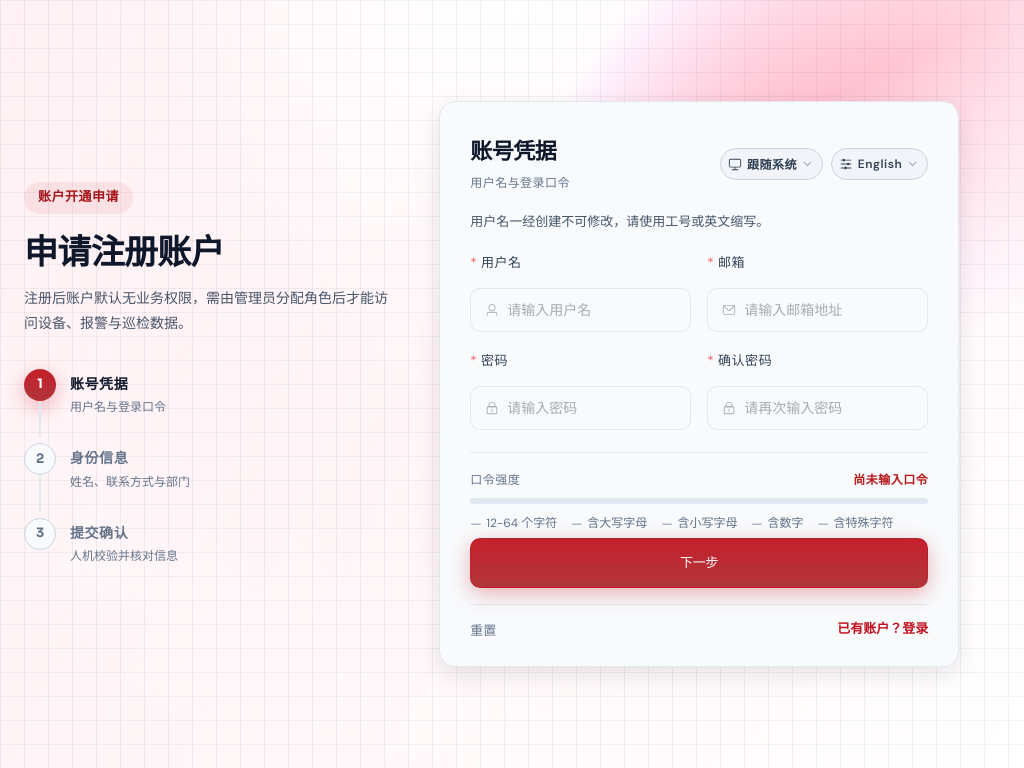
it: RegisterView 分步向导 › 末步信息核对展示第 1/2 步的填写值（未填项显示占位）
The image size is (1024, 768).
Type "zhangsan" into the field with id "username" at {"x": 592, "y": 310}, box top-left (507, 291), bottom-right (676, 329)
Type "z@example.com" into the field labelled "邮箱" at {"x": 829, "y": 310}, box top-left (744, 291), bottom-right (913, 329)
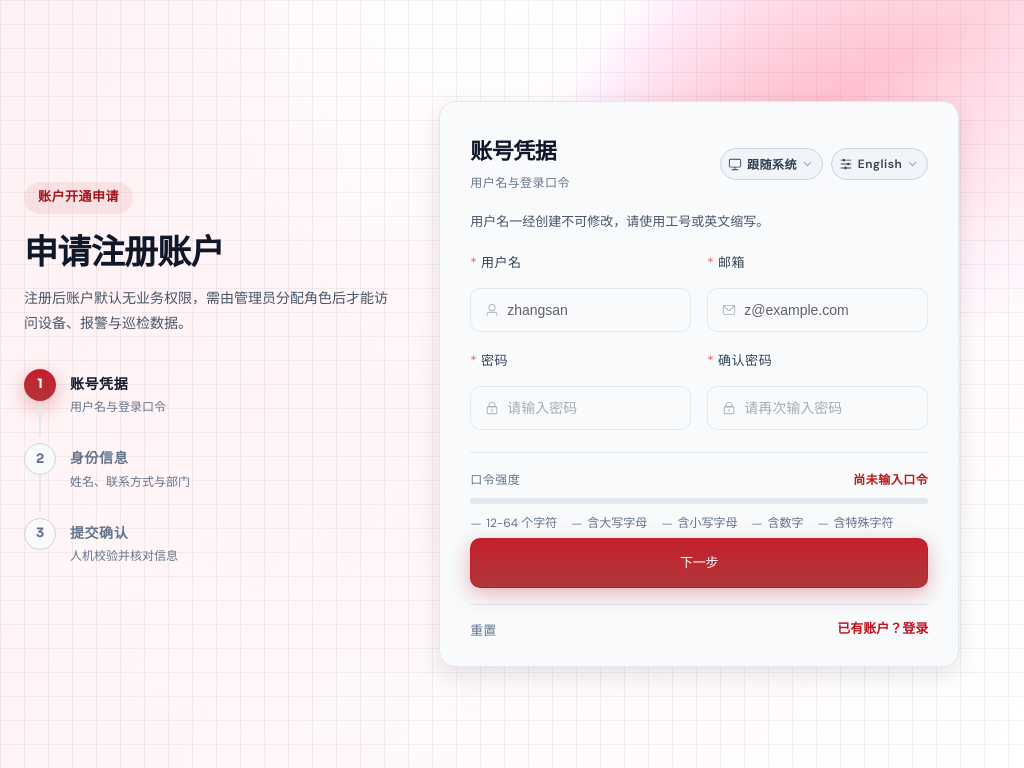
Type "Str0ng-Pass_2026" into the password field labelled "密码" at {"x": 592, "y": 408}, box top-left (507, 389), bottom-right (676, 427)
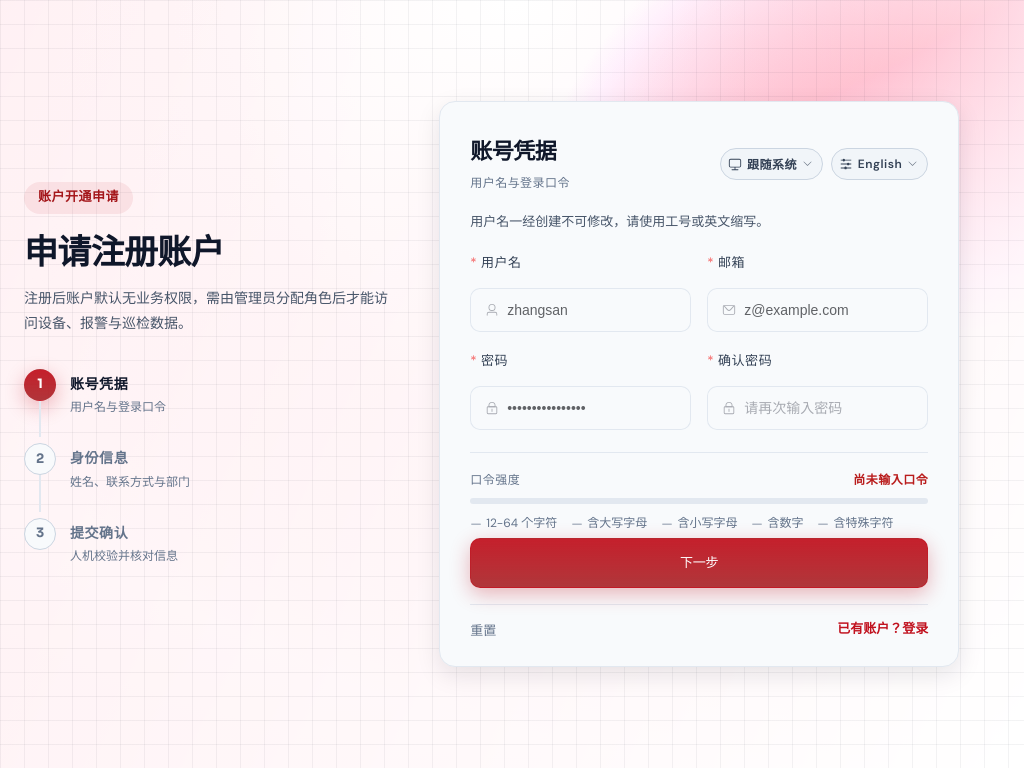
Type "Str0ng-Pass_2026" into the password field labelled "确认密码" at {"x": 829, "y": 408}, box top-left (744, 389), bottom-right (913, 427)
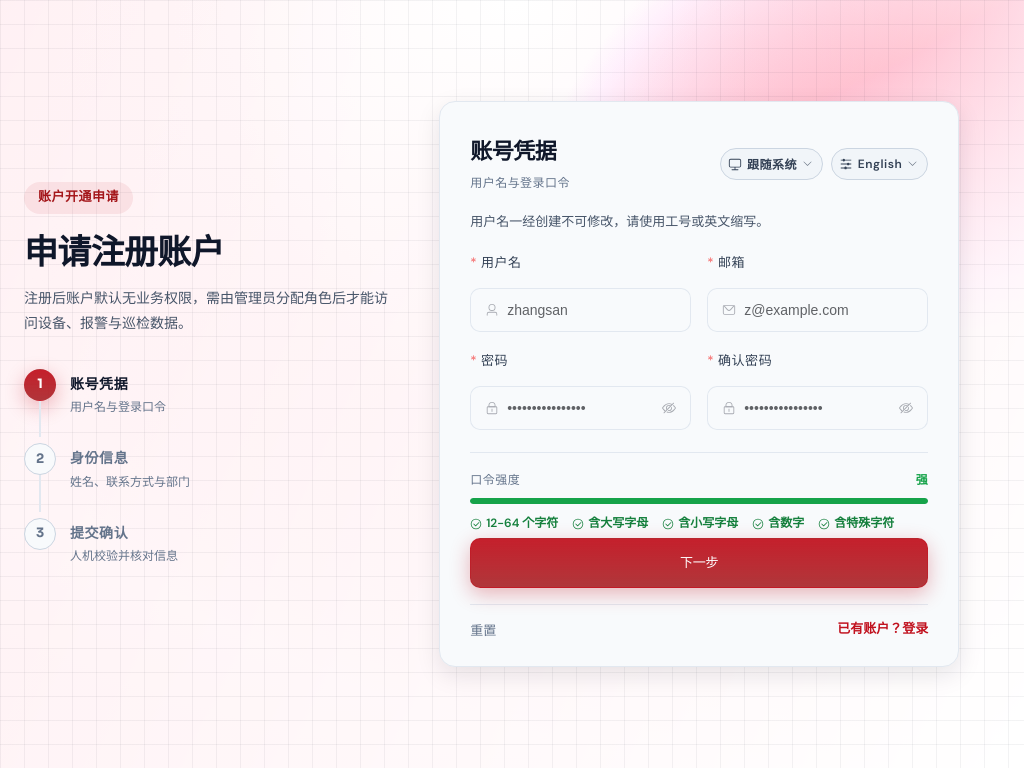
Click the button "下一步" at {"x": 699, "y": 563}, box top-left (470, 538), bottom-right (928, 588)
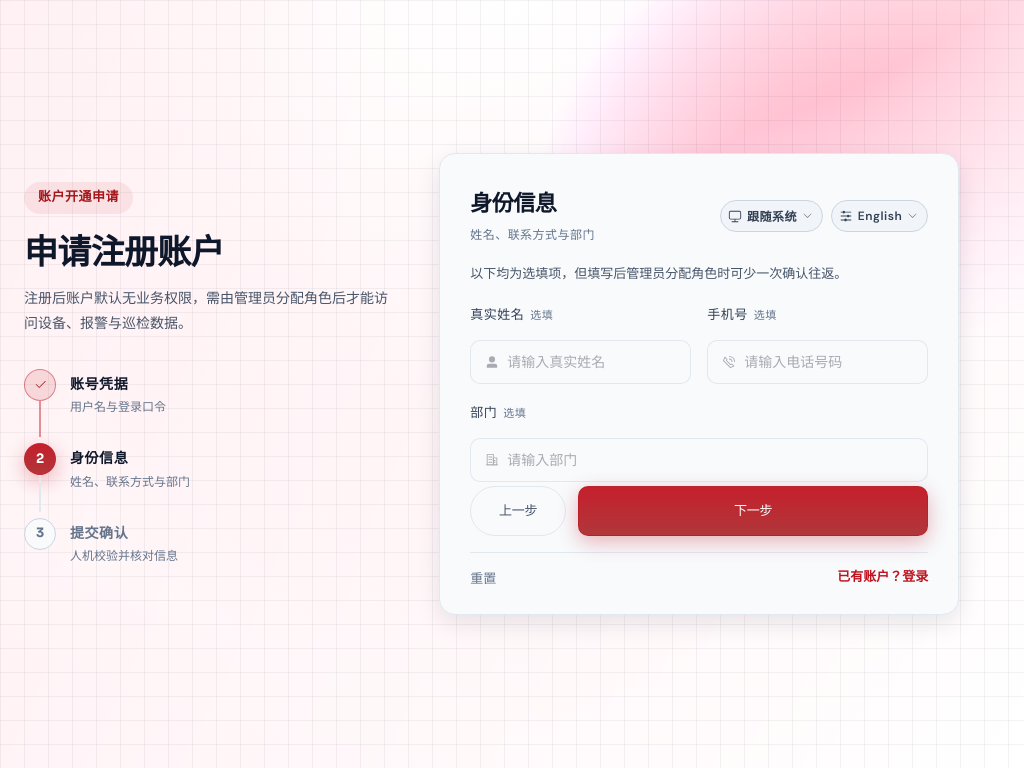
Type "张三" into the field with id "realName" at {"x": 592, "y": 362}, box top-left (507, 343), bottom-right (676, 381)
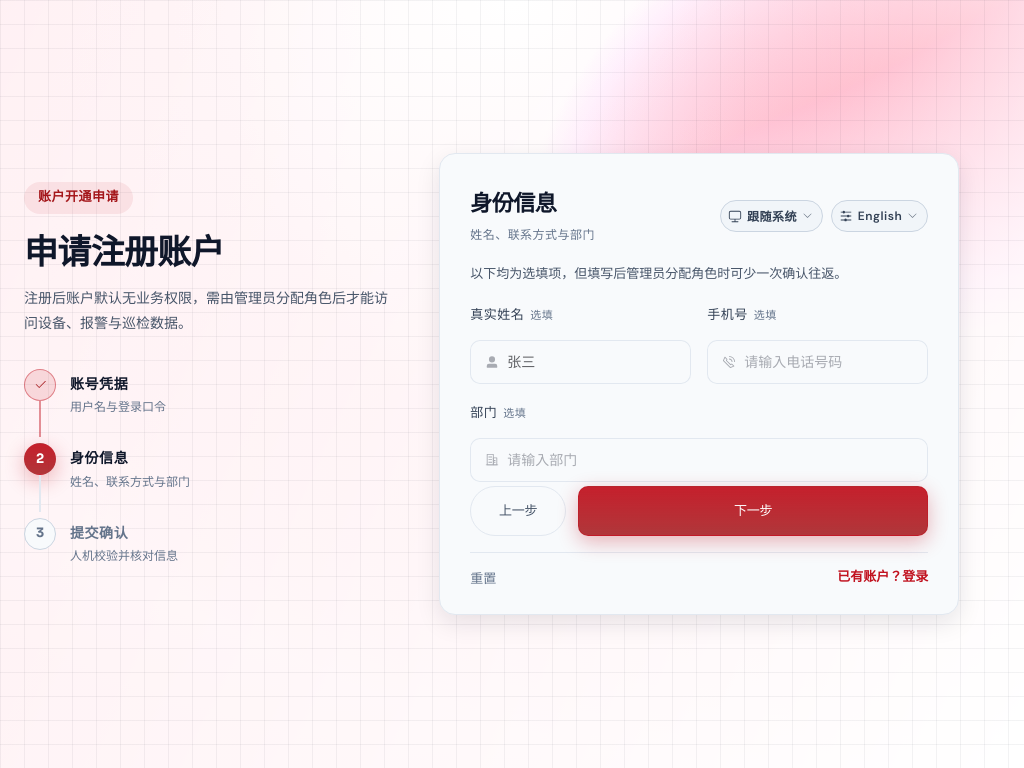
Click the button "下一步" at {"x": 753, "y": 511}, box top-left (578, 486), bottom-right (928, 536)
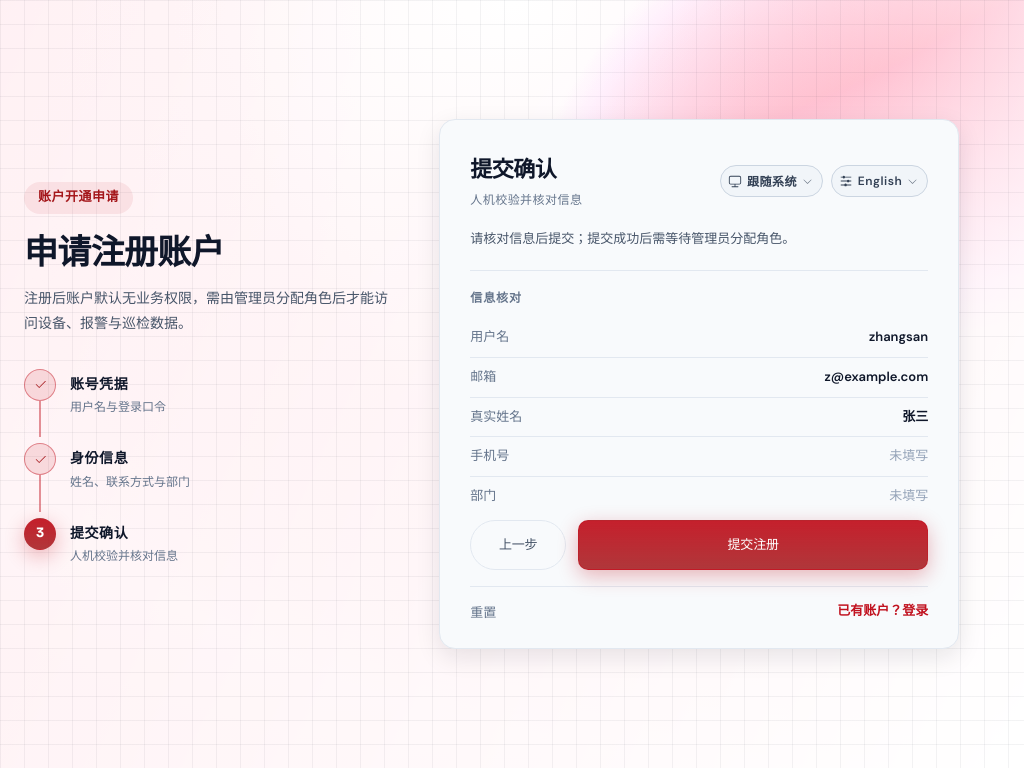
expect the element with class "summary" shows "zhangsan": met, box top-left (869, 328), bottom-right (928, 345)
expect the element with class "summary" shows "z@example.com": met, box top-left (825, 368), bottom-right (928, 385)
expect the element with class "summary" shows "张三": met, box top-left (902, 408), bottom-right (928, 424)
